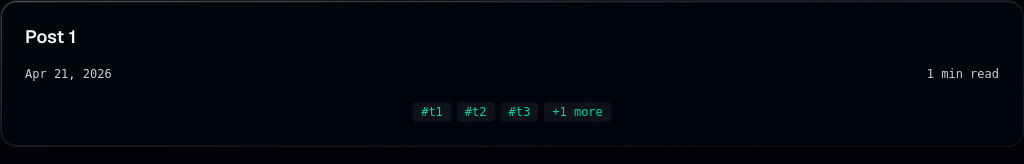
it: PostList › expands and collapses extra tags through parent state
Expected: the text "#t4" is not shown
Click the button "+1 more" at (578, 112), box [544,102,611,122]
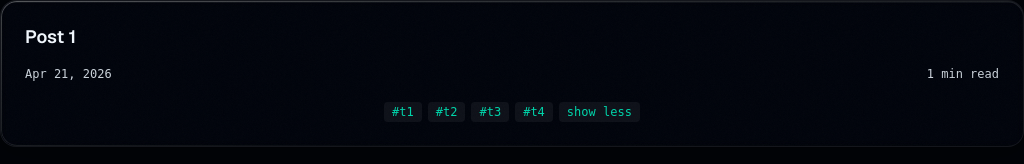
Expected: the link "#t4" is shown, [515,102,553,122]
Click the button "show less" at (599, 112), box [559,102,640,122]
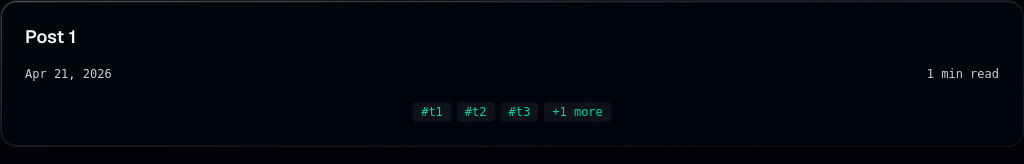
Expected: the link "#t4" is gone
